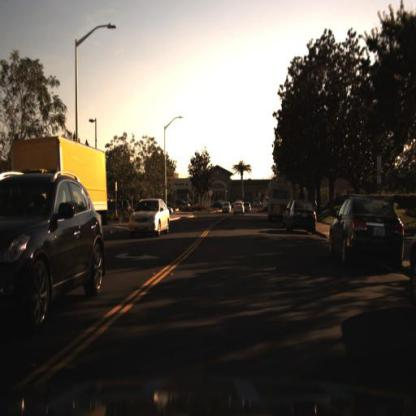car: (1, 173, 108, 337), (326, 191, 407, 268), (127, 196, 172, 246), (288, 201, 317, 232), (232, 200, 247, 221)
truck: (2, 140, 111, 228), (265, 178, 294, 229)
